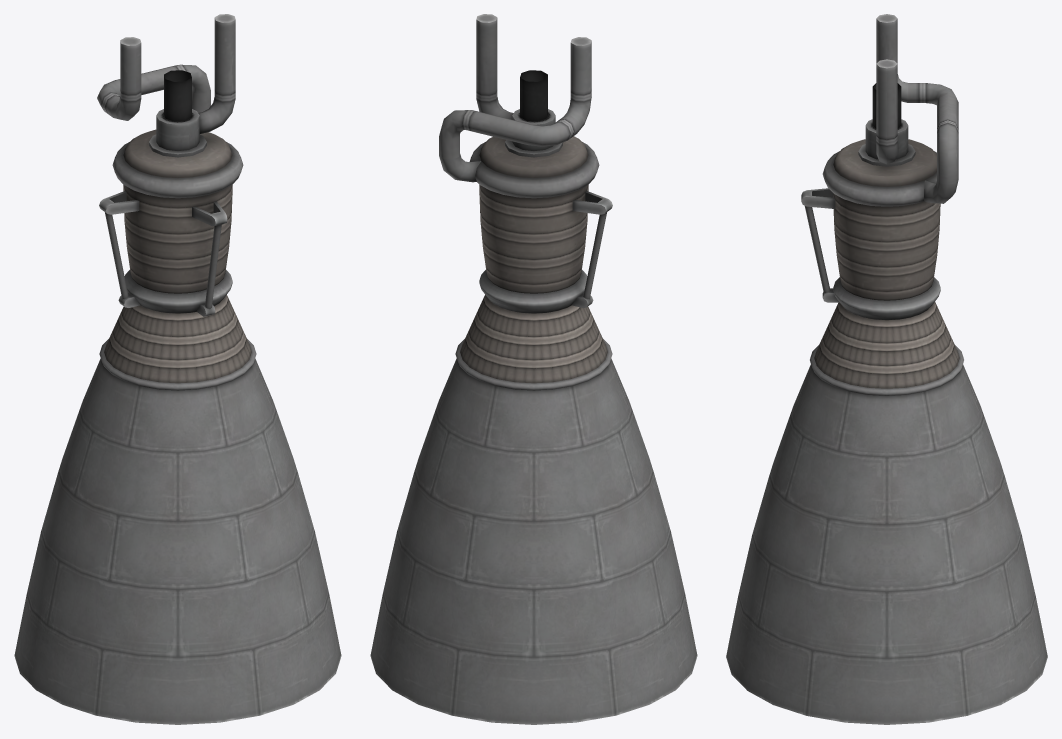
The model's file is blue_streak_engine_s0_3.obj.
3 renders of one model, left to right at view 1: azimuth 30°, elevation 25°; view 2: azimuth 150°, elevation 25°; view 3: azimuth 270°, elevation 25°, orthographic.
Visible parts, largest first — view 1: nozzle2, mesh1; view 2: nozzle2, mesh1; view 3: nozzle2, mesh1.
Part boxes in pixels (x1,y1,x2,y2): nozzle2: [14, 295, 341, 724]; mesh1: [97, 14, 243, 316]; nozzle2: [370, 295, 697, 724]; mesh1: [439, 14, 612, 313]; nozzle2: [726, 302, 1047, 724]; mesh1: [801, 14, 958, 319].
Size of the model in its own units: 1.12 by 2.38 by 1.12.
